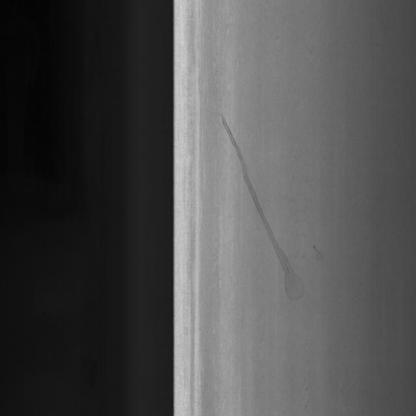water_spot: (213, 102, 332, 312)
